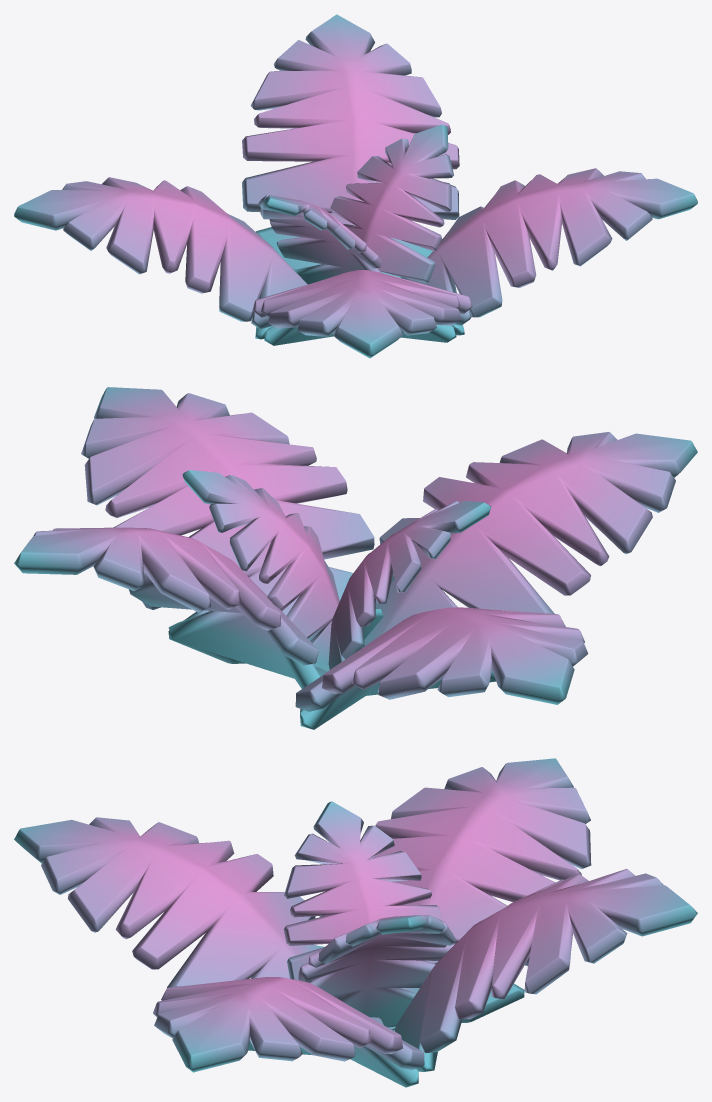
Rendered from vegetacion03.fbx.
The picture shows the model from 3 angles, top to bottom: view 1: azimuth 30°, elevation 25°; view 2: azimuth 150°, elevation 25°; view 3: azimuth 270°, elevation 25°; orthographic projection. The views are drawn at different scales.
Parts seen in each view (by area): view 1: Plant.006; view 2: Plant.006; view 3: Plant.006.
Part boxes in pixels (x1=…): Plant.006: x1=14, y1=14, x2=697, y2=358; Plant.006: x1=14, y1=387, x2=697, y2=729; Plant.006: x1=14, y1=758, x2=697, y2=1087.
Size of the model in its own units: 1160 by 359 by 1111.
Materials: 1 (1 with a texture image).
